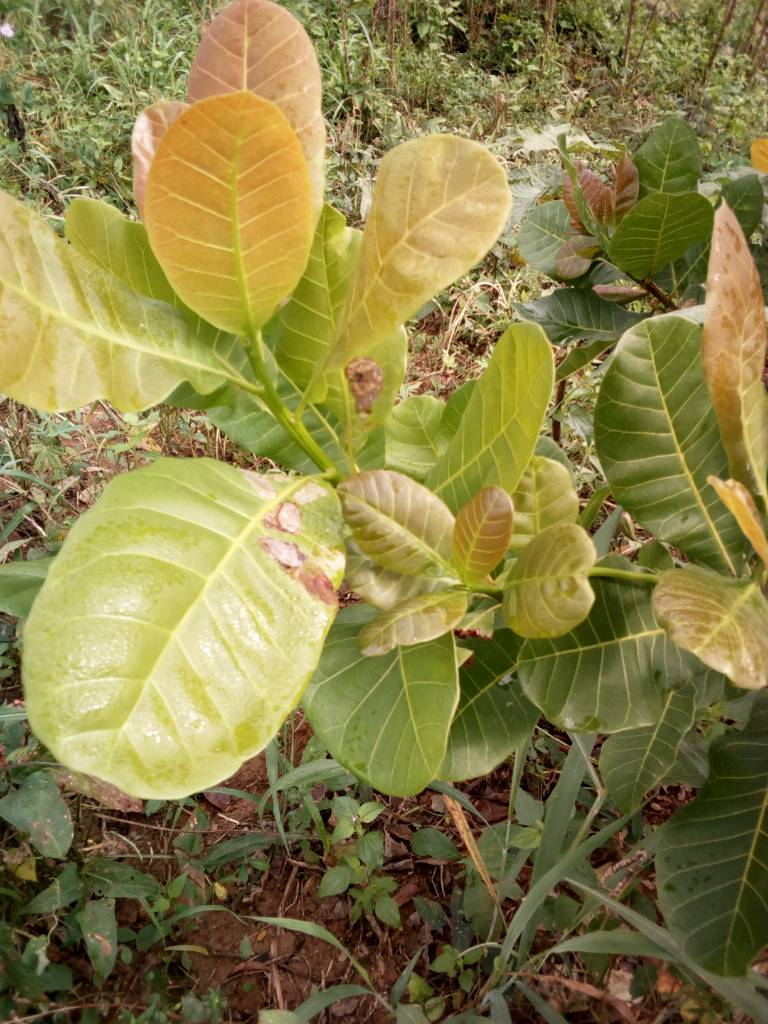Dysdercus wolkerii: (8, 438, 393, 805)
